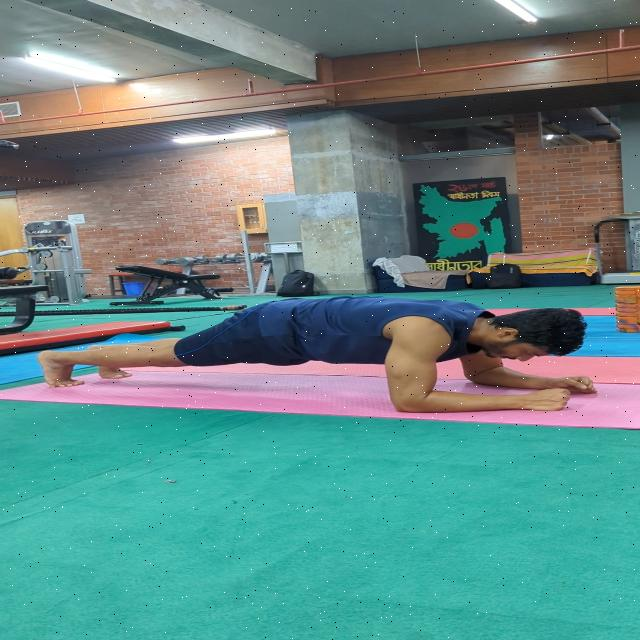Normal_Plunk: (26, 299, 614, 422)
